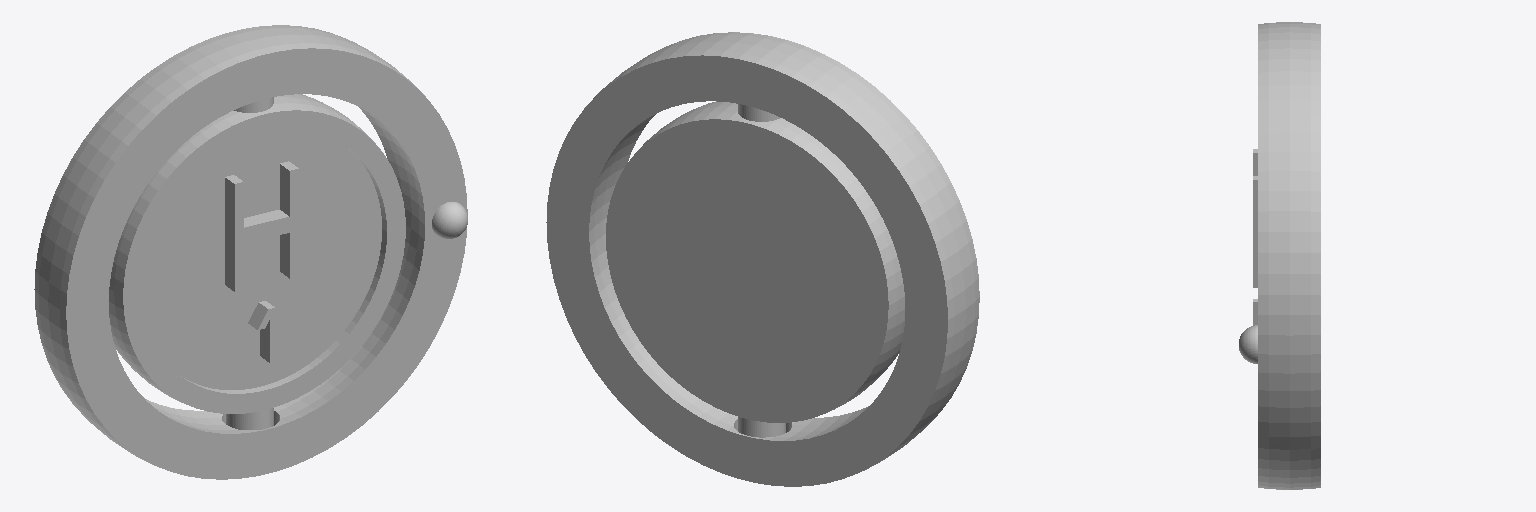
Rendered from 001__H__Hydrogen-X-RAY.obj.
The picture shows the model from 3 angles: view 1: azimuth 30°, elevation 25°; view 2: azimuth 150°, elevation 25°; view 3: azimuth 270°, elevation 25°; orthographic projection.
Visible parts, largest first — view 1: Object.2, Object.1; view 2: Object.2, Object.1; view 3: Object.2, Object.1.
Boxes of the visible parts, <box> form: Object.2: <box>34,25,467,479</box>; Object.1: <box>109,94,405,429</box>; Object.2: <box>546,32,979,486</box>; Object.1: <box>606,101,904,437</box>; Object.2: <box>1239,22,1320,489</box>; Object.1: <box>1253,149,1257,325</box>.
Bounding box in the file's own units: 48 × 47.95 × 8.5.